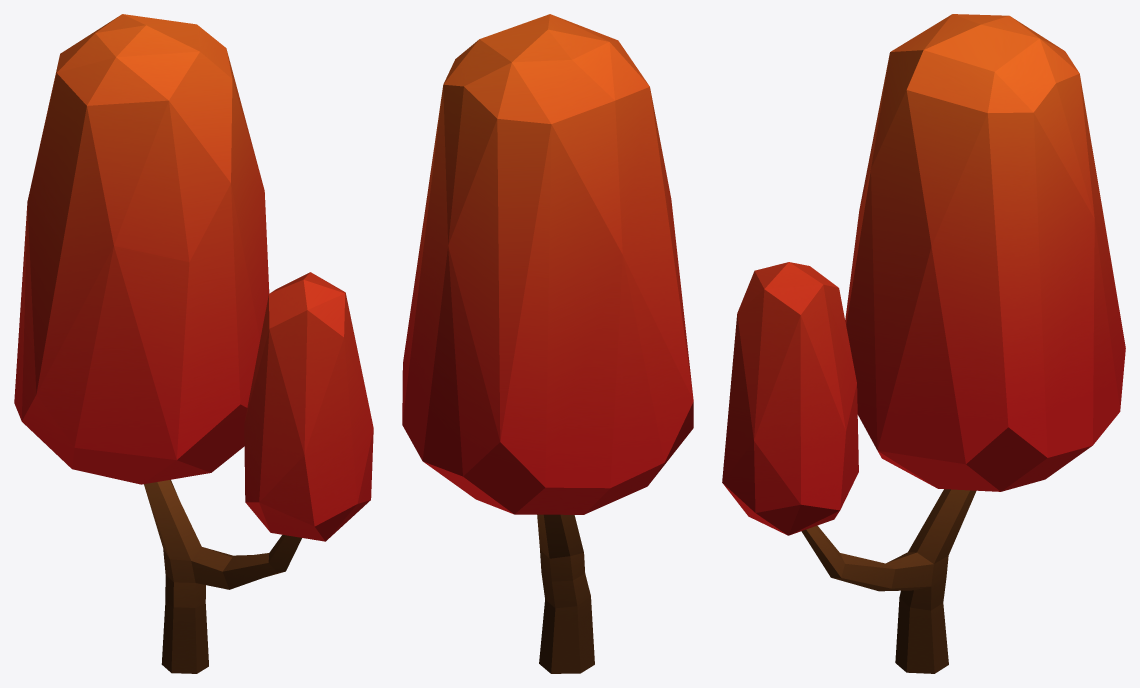
The model's file is Tree2.fbx.
3 renders of one model, left to right at view 1: azimuth 30°, elevation 25°; view 2: azimuth 150°, elevation 25°; view 3: azimuth 270°, elevation 25°, orthographic. The views are drawn at different scales.
Parts seen in each view (by area): view 1: tree_A1; view 2: tree_A1; view 3: tree_A1.
Part boxes in pixels (left/top/right/bottom): tree_A1: left=14, top=14, right=373, bottom=673; tree_A1: left=402, top=14, right=693, bottom=673; tree_A1: left=722, top=14, right=1125, bottom=673.
Size of the model in its own units: 106 by 249 by 144.
